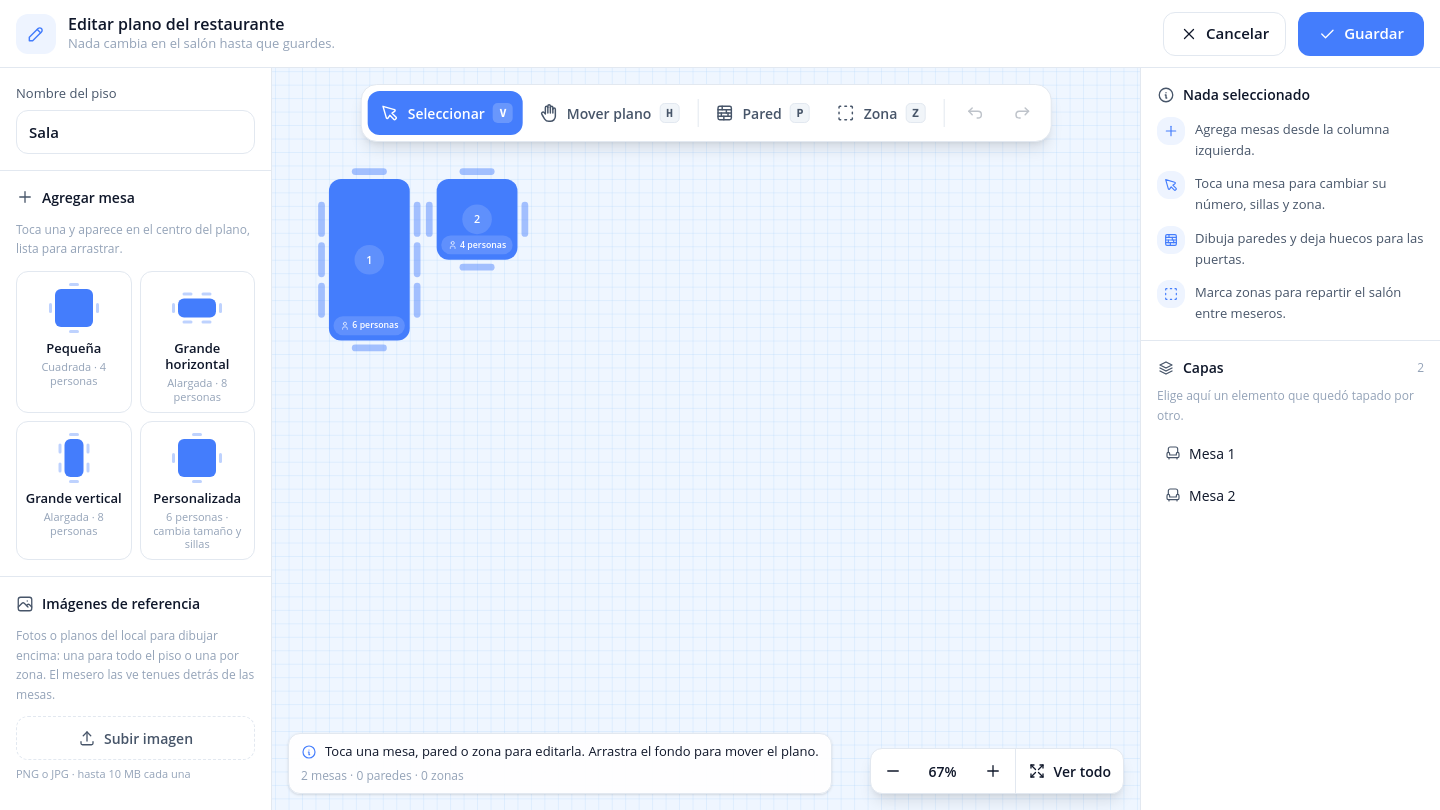
explains why a table is invalid and jumps to it from the header
Click the button with aria-label "Seleccionar capa: Mesa 1". click: (1212, 453)
box: [1157,433,1424,473]
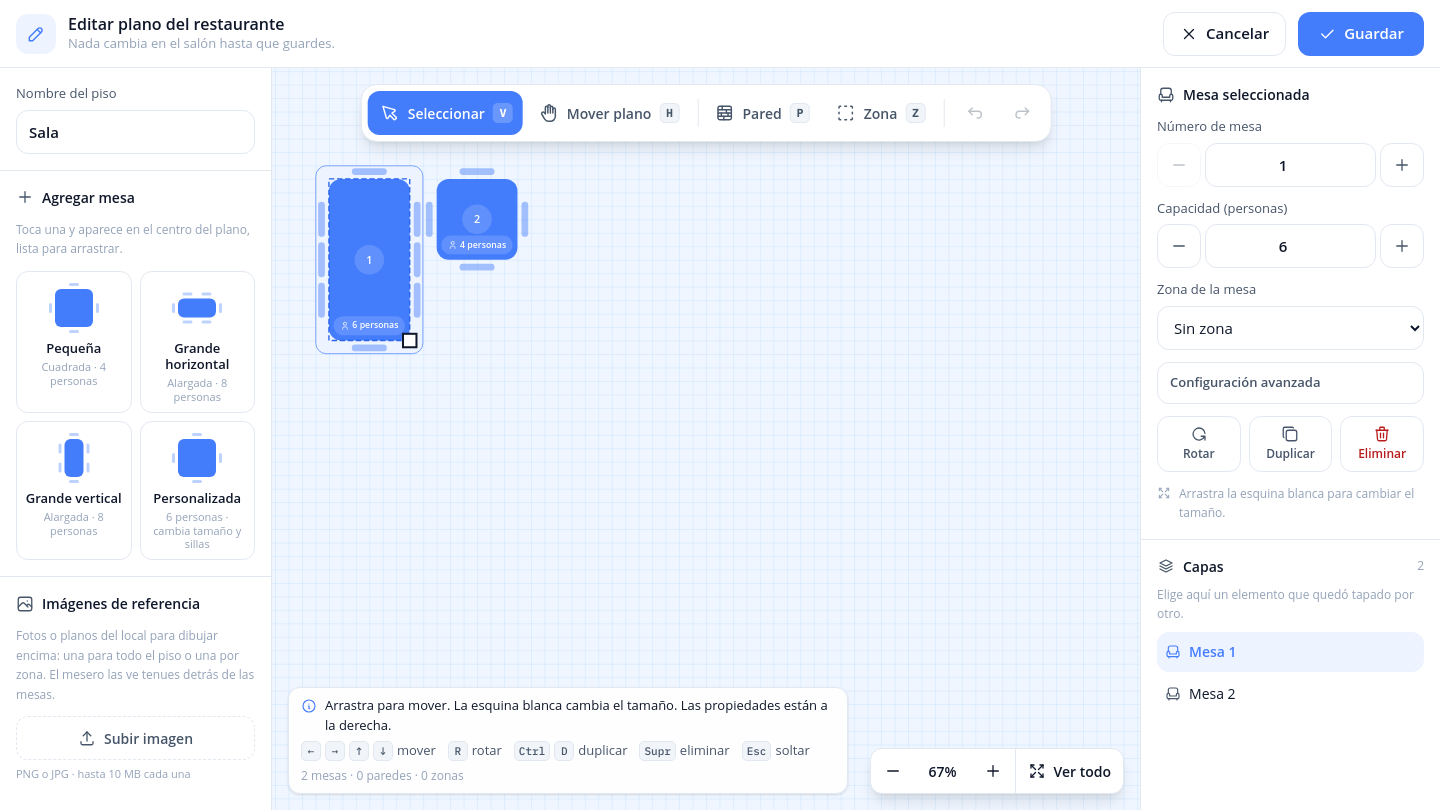
Click the button "Rotar". click: (1199, 444)
box: [1157,416,1241,472]
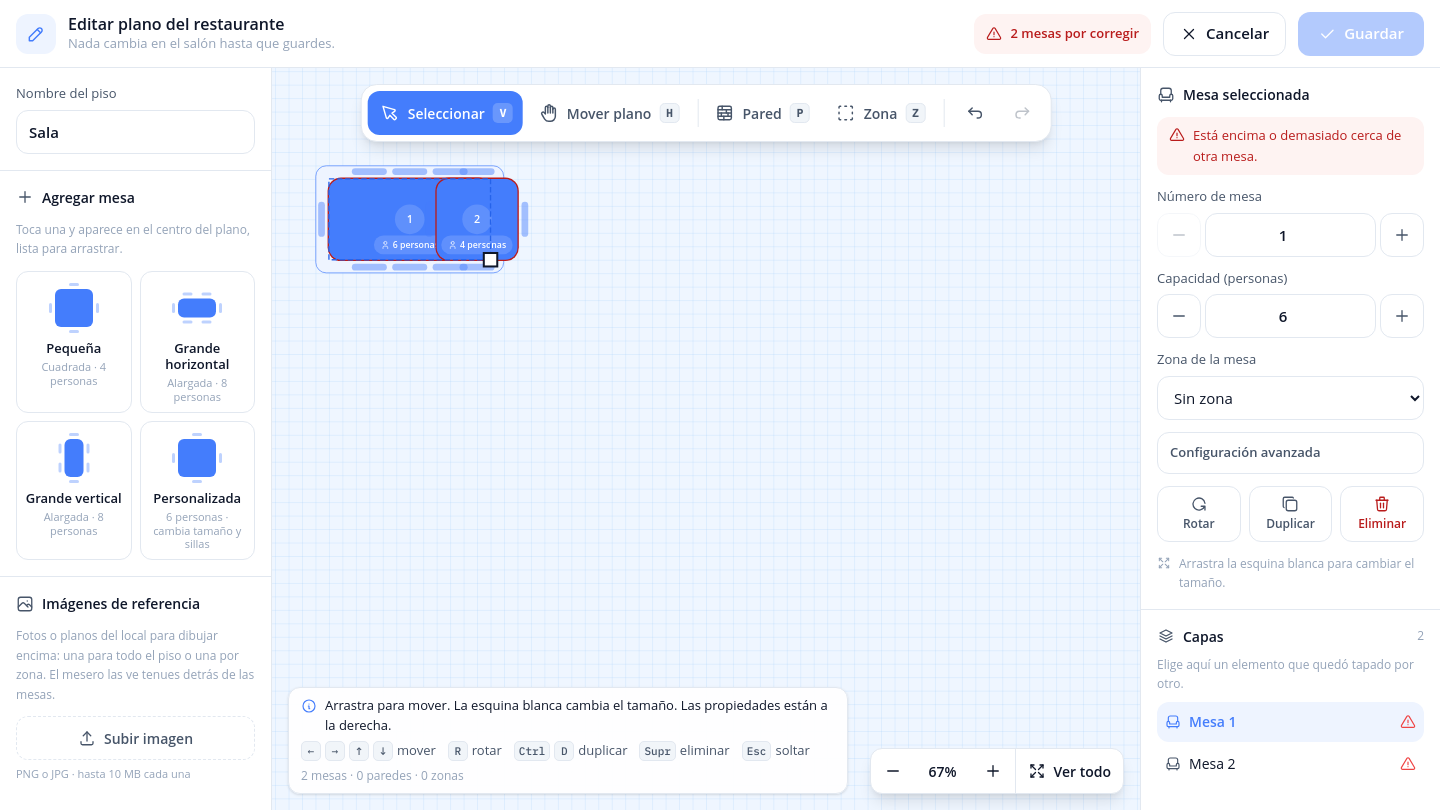
Now the message "Está encima o demasiado cerca de otra mesa." is shown, box [1157,117,1424,175]
Press Escape
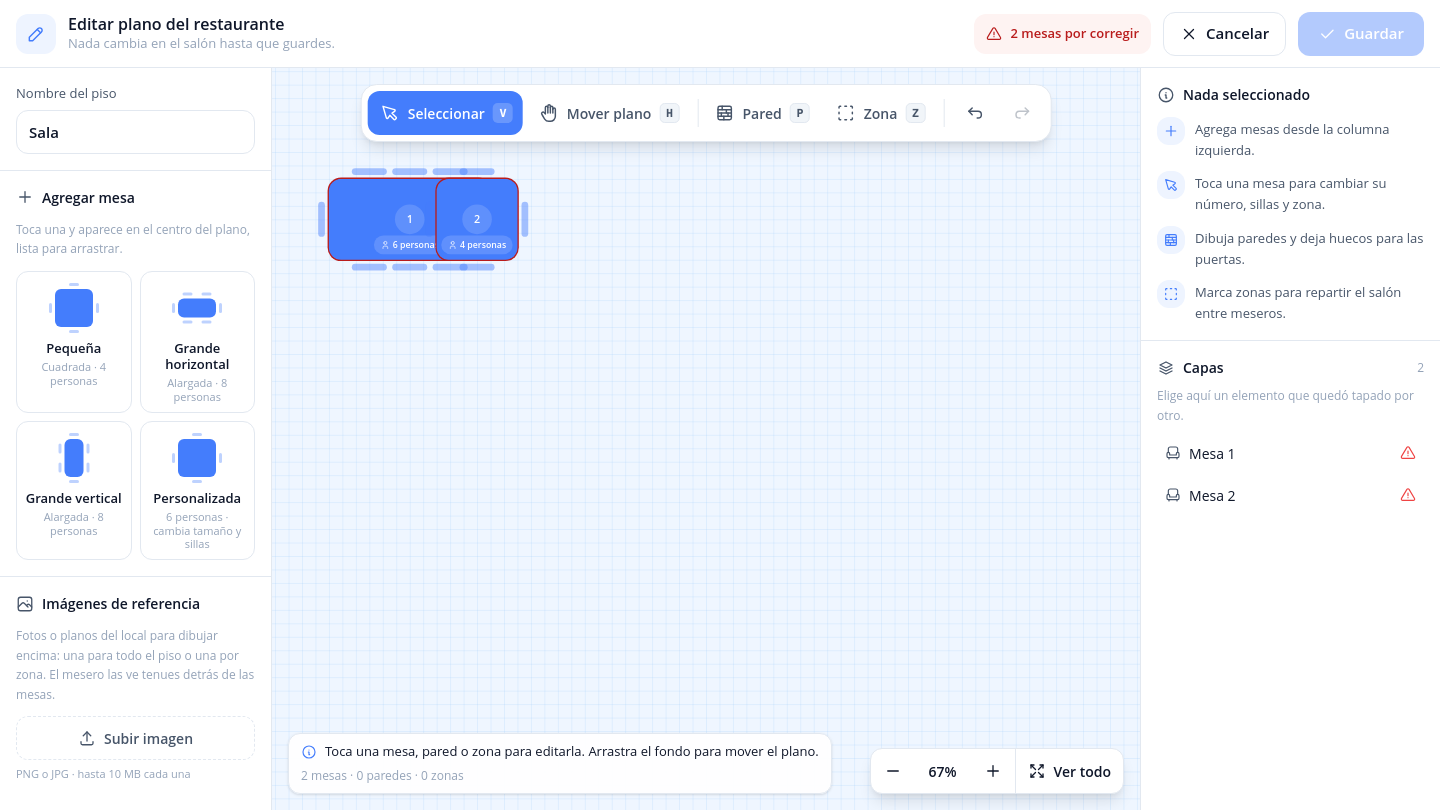
Click the button "2 mesas por corregir". click: (1063, 34)
box: [974,14,1151,54]
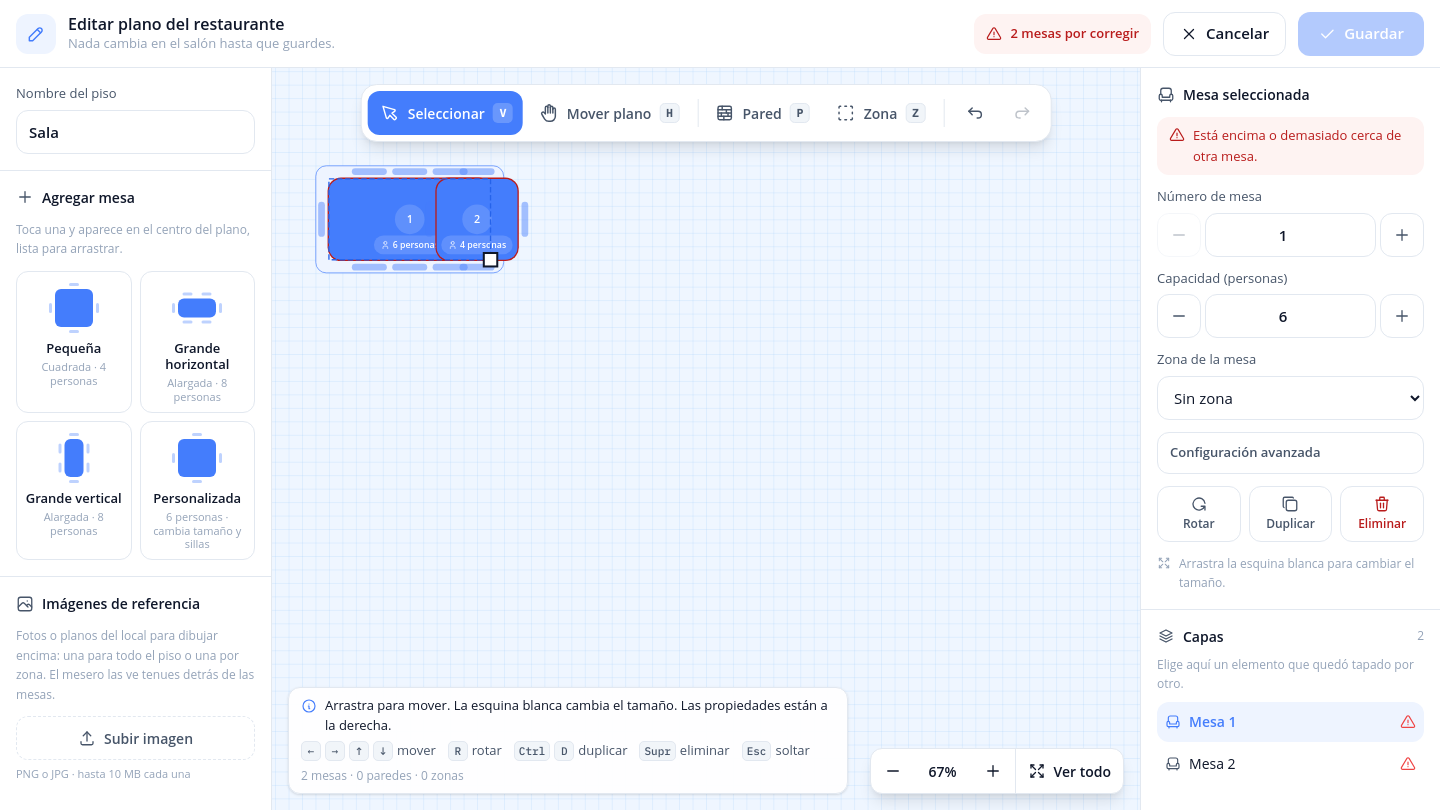
Now the element named "Elemento seleccionado" is shown, box [1141,68,1439,610]
